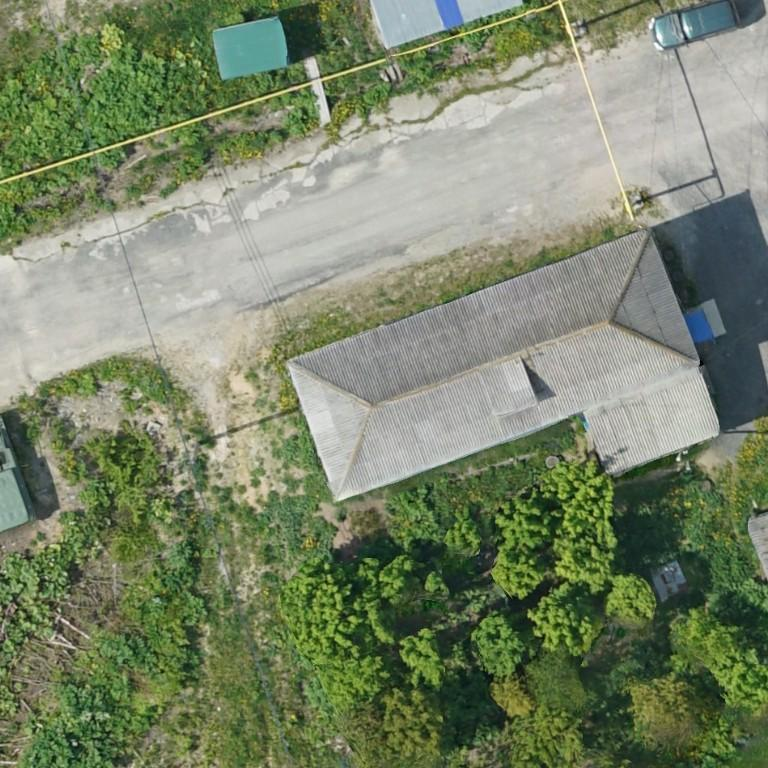hogweed: (23, 684, 129, 767), (97, 630, 157, 671), (0, 202, 29, 236), (283, 107, 306, 134), (363, 83, 391, 104)
